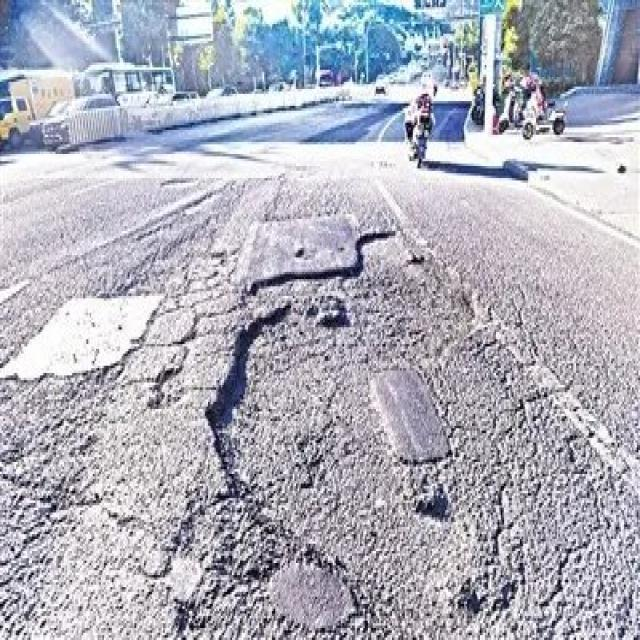Pothole: (227, 226, 549, 623)
